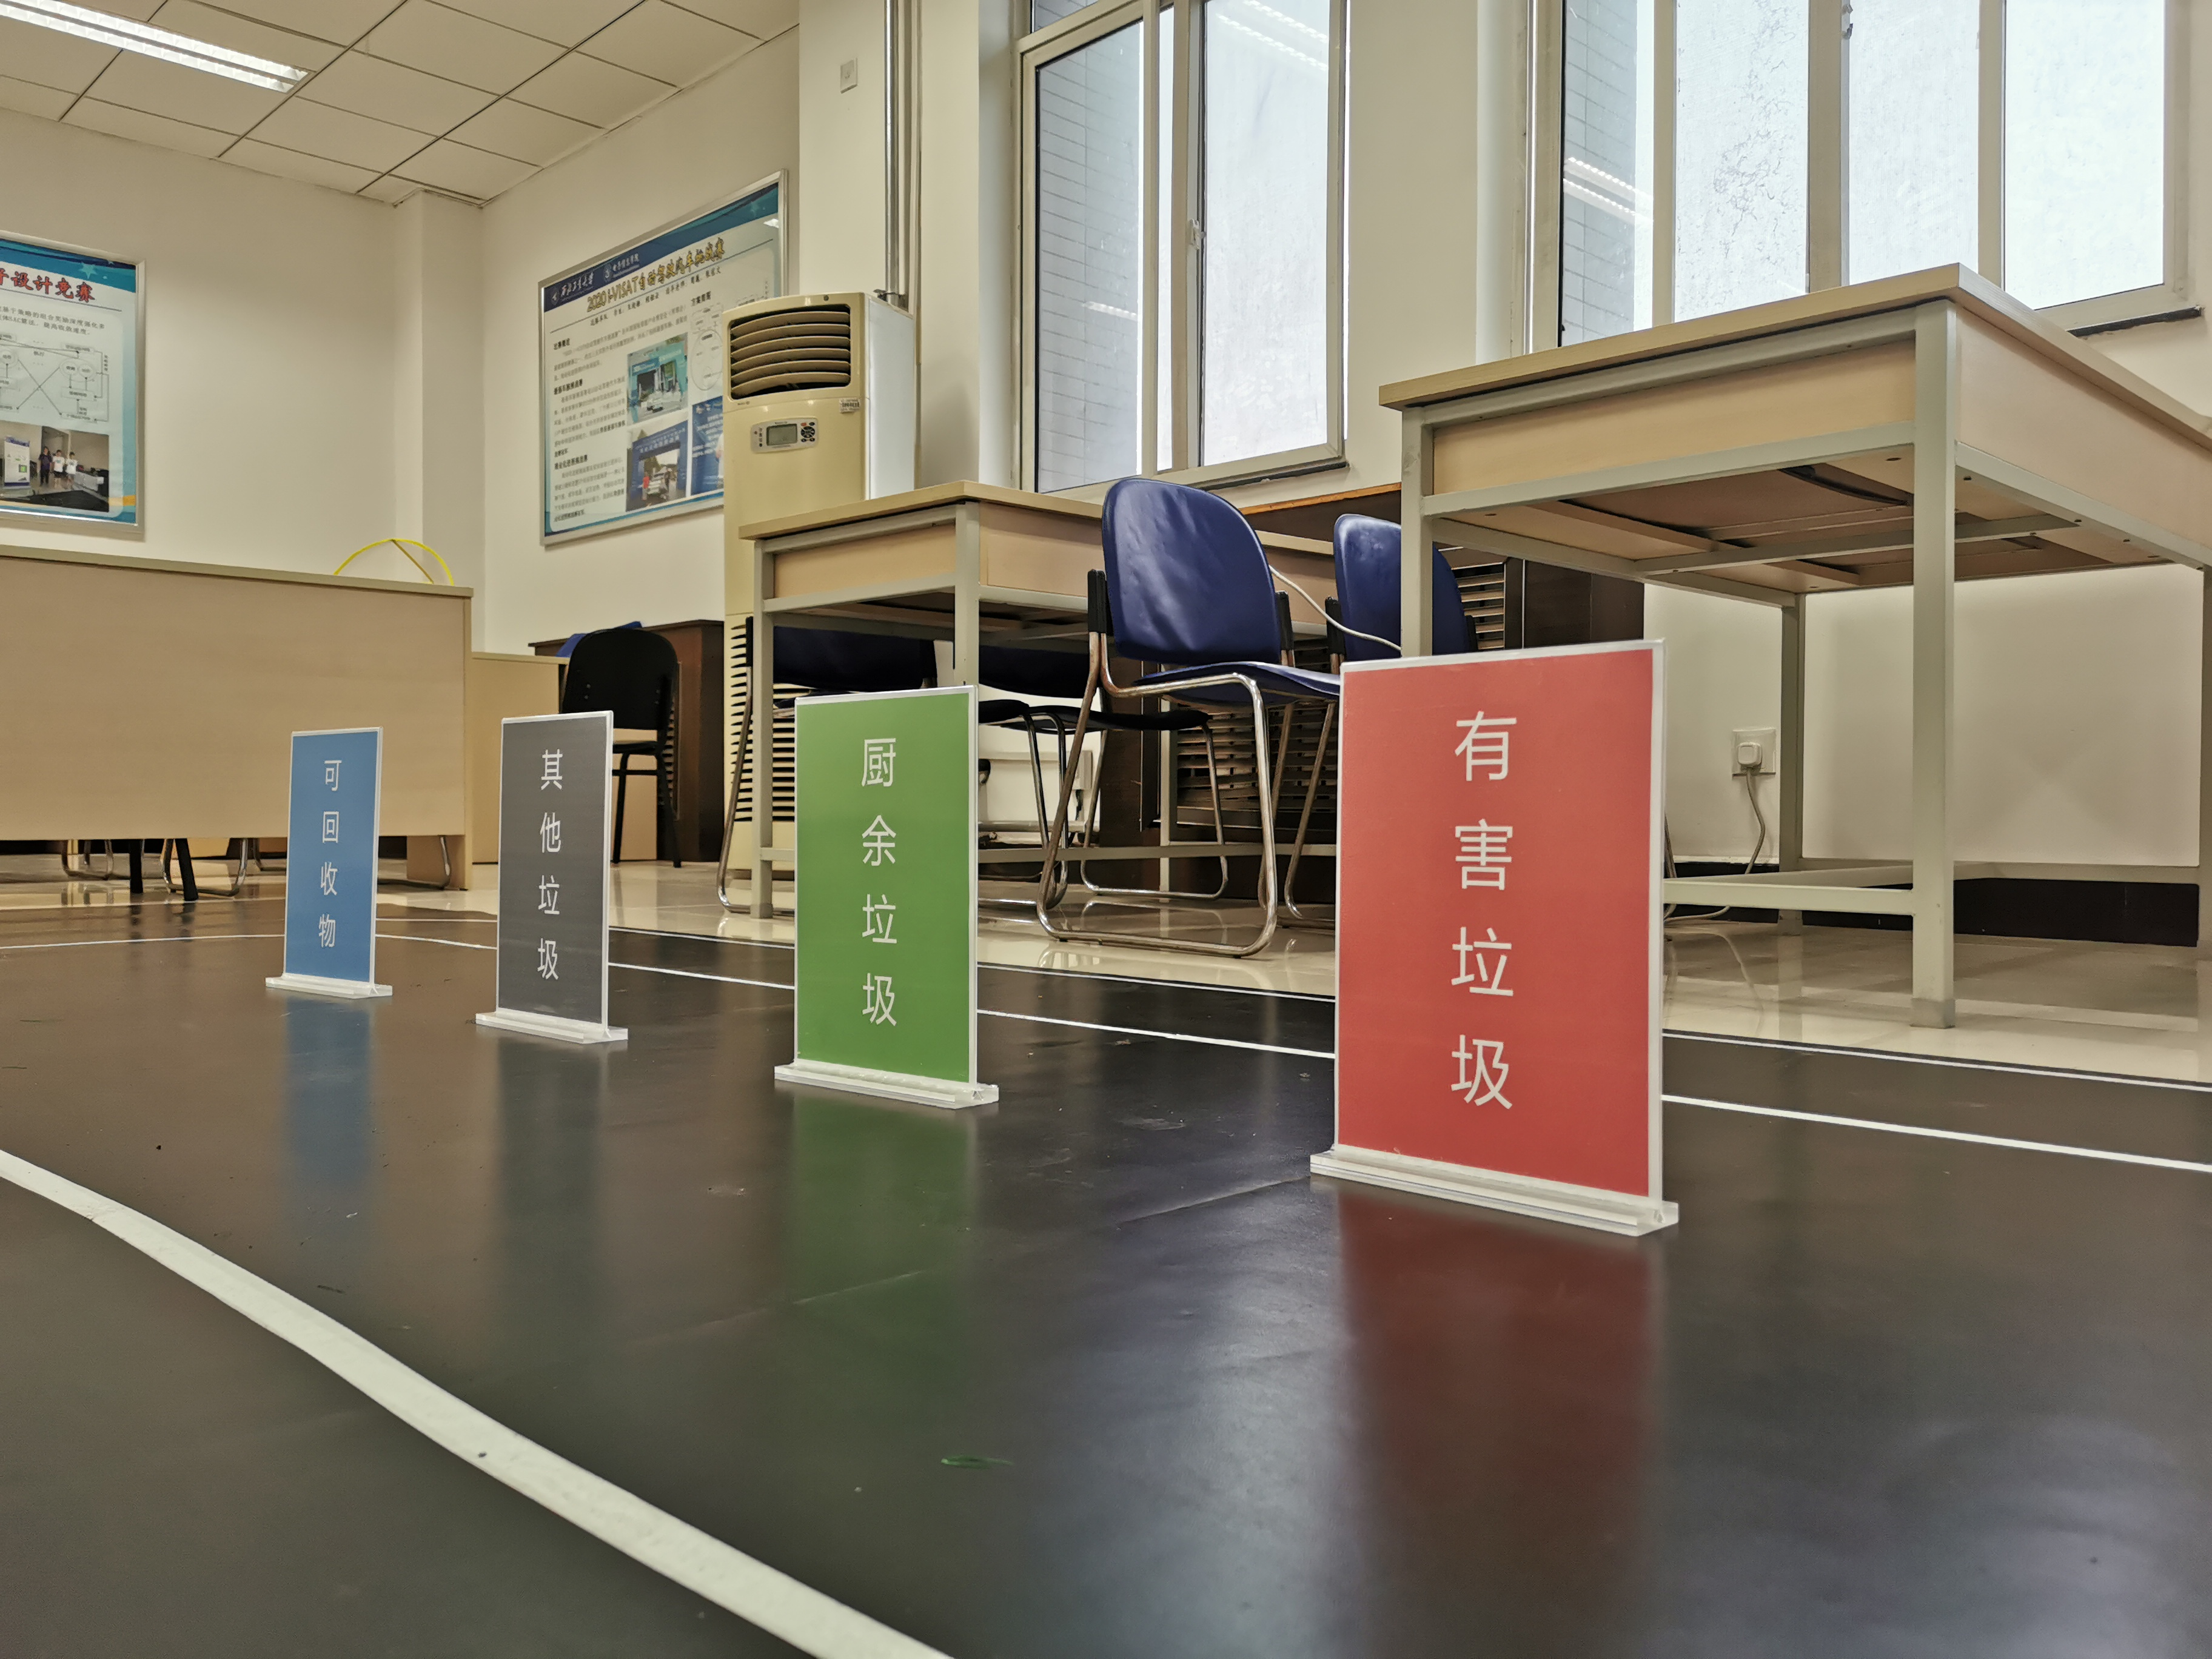black: (507, 728, 597, 1004)
blue: (298, 744, 364, 971)
green: (803, 711, 961, 1056)
red: (1345, 680, 1646, 1136)
